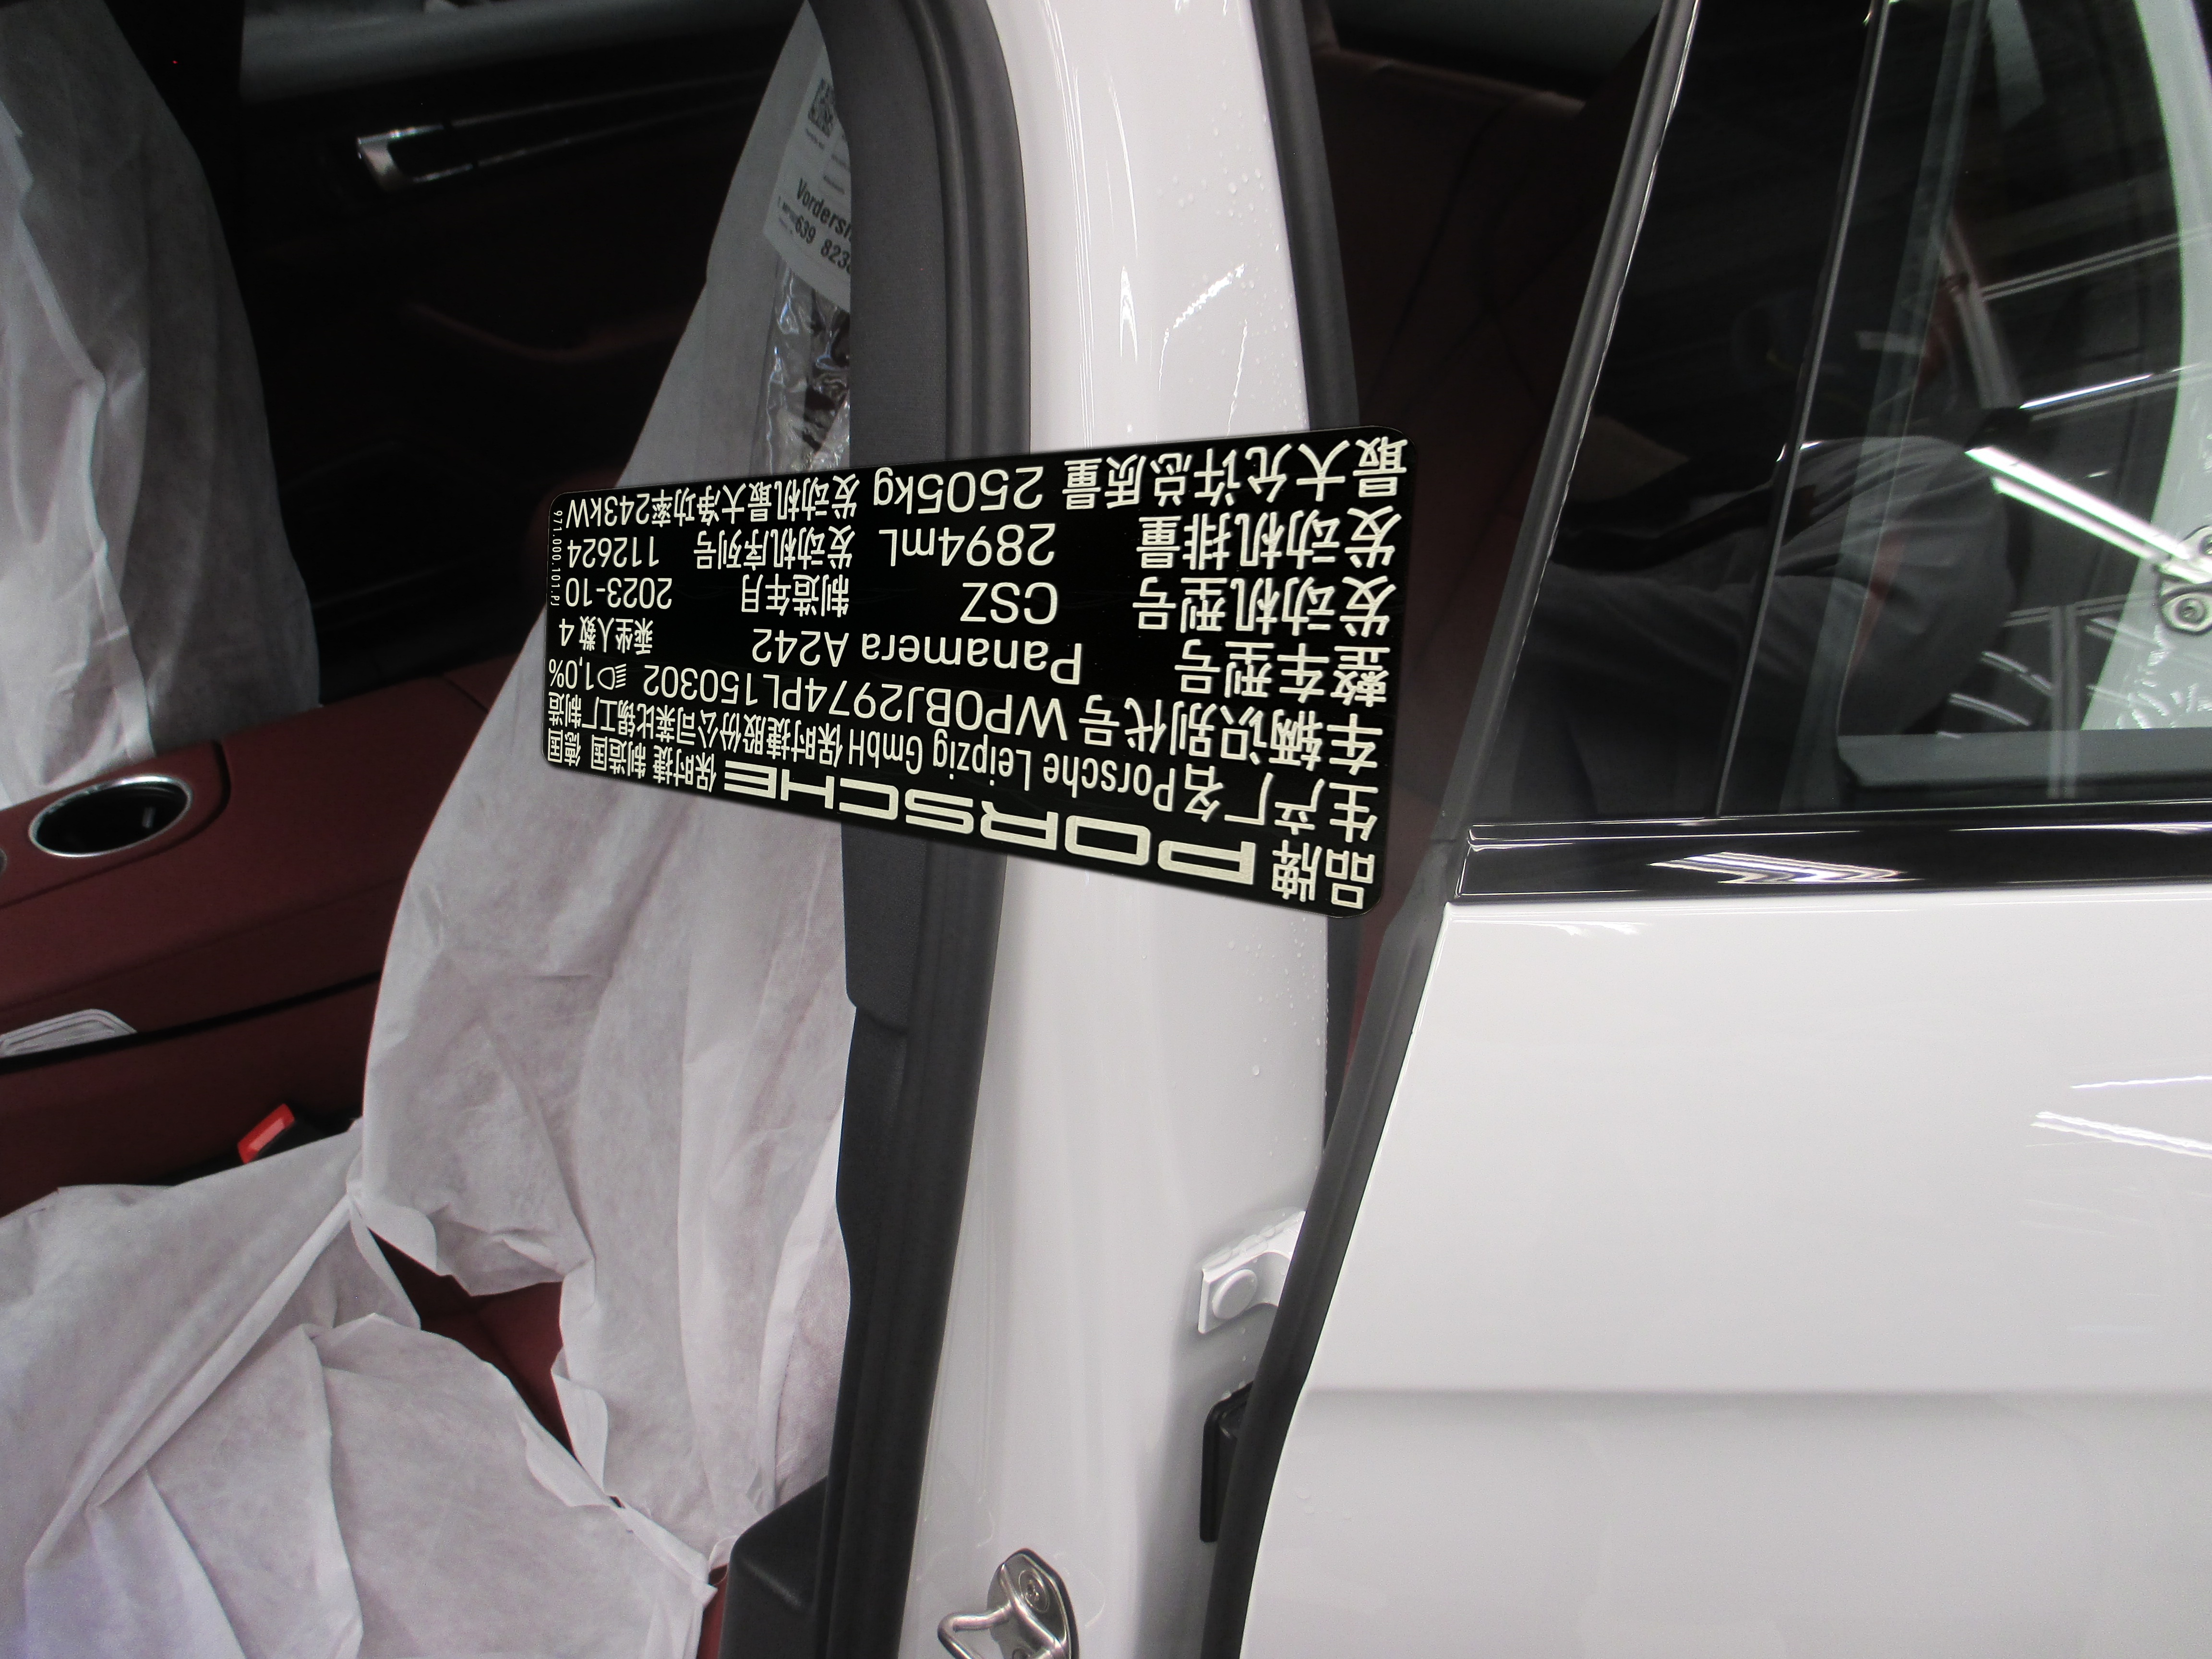Typlabel-China: (542, 425, 1416, 917)
